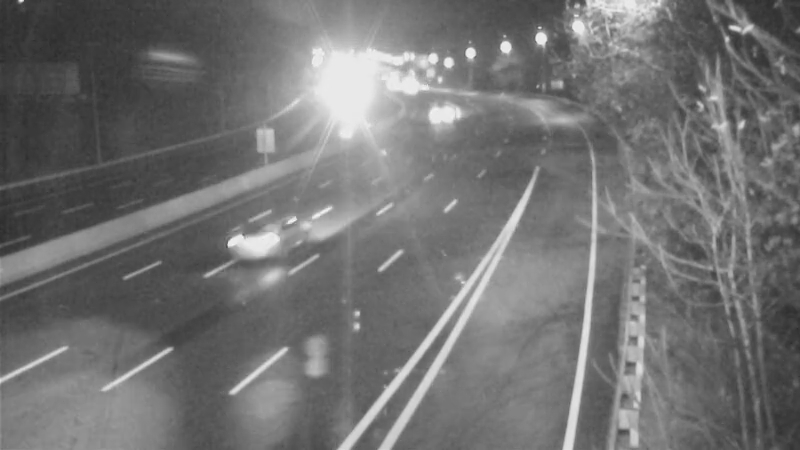vehicle: (220, 200, 300, 280), (397, 63, 447, 113), (413, 88, 463, 138), (319, 78, 369, 128)
